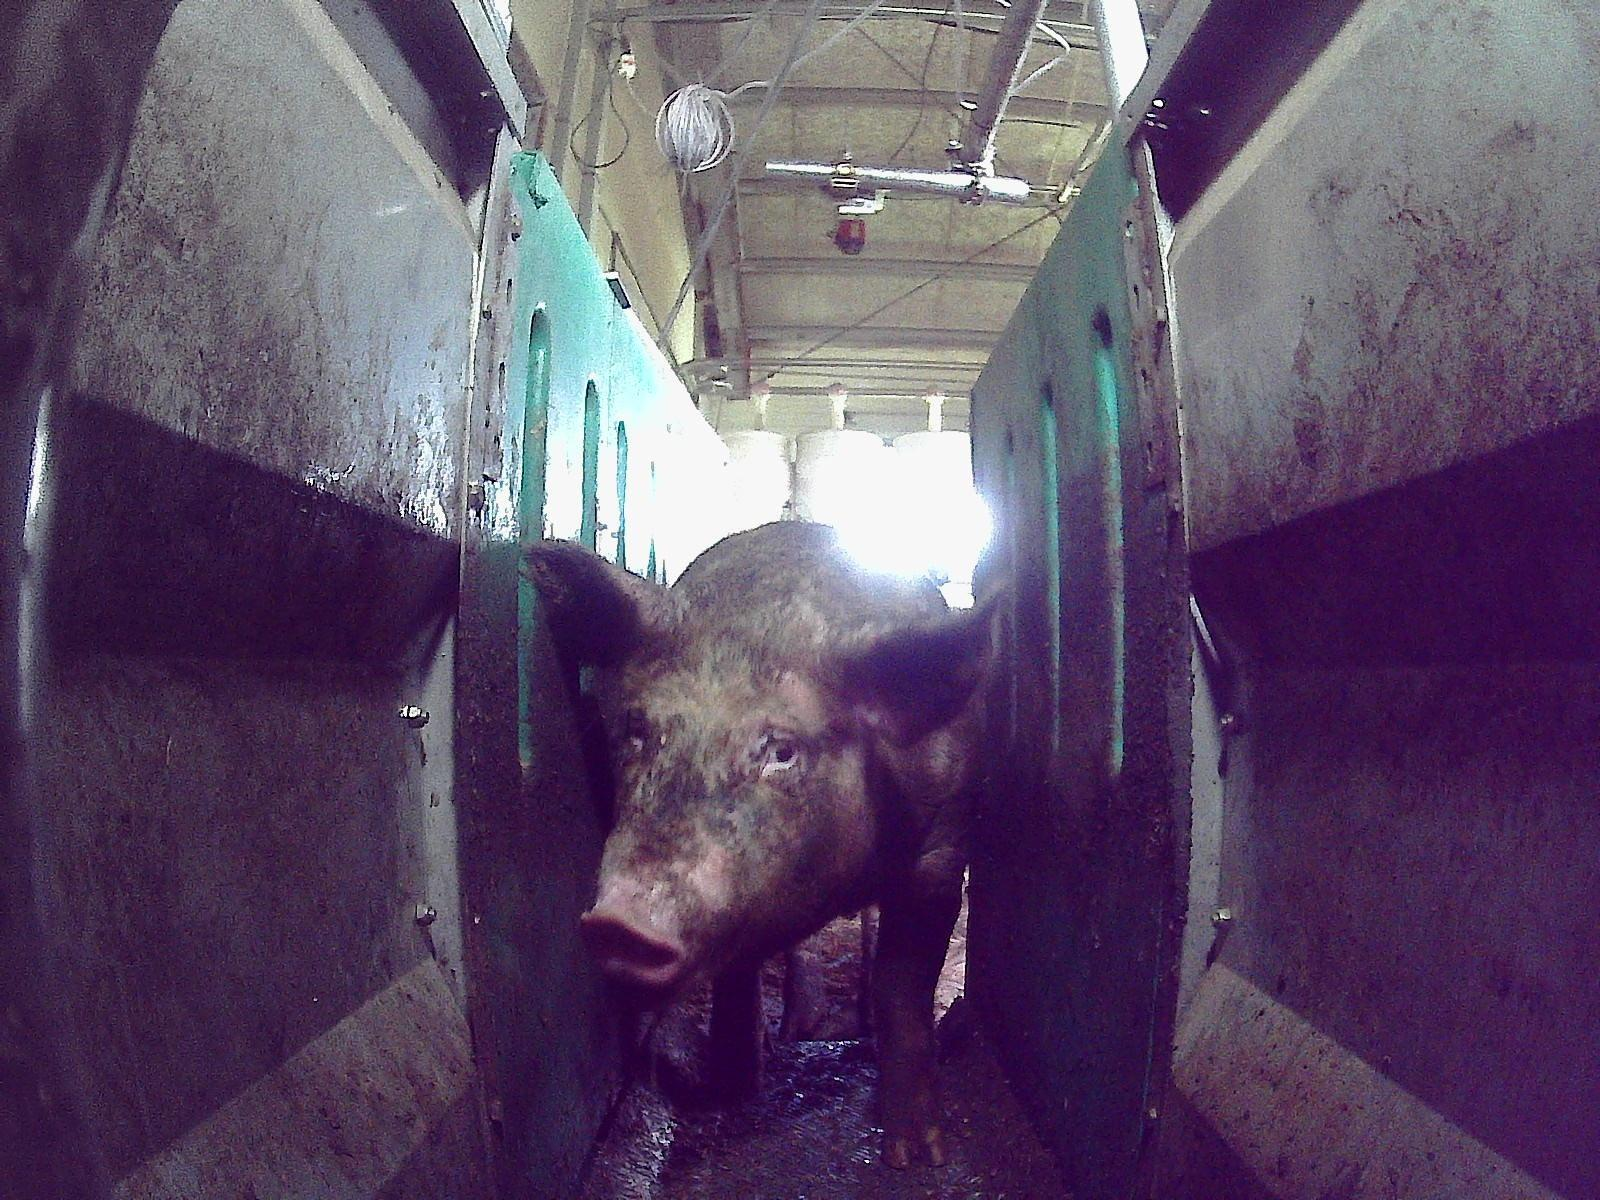Face: (579, 637, 875, 985)
